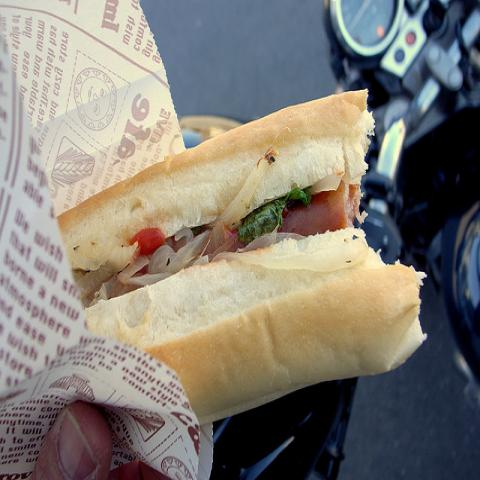motorcycle: (319, 0, 479, 438)
